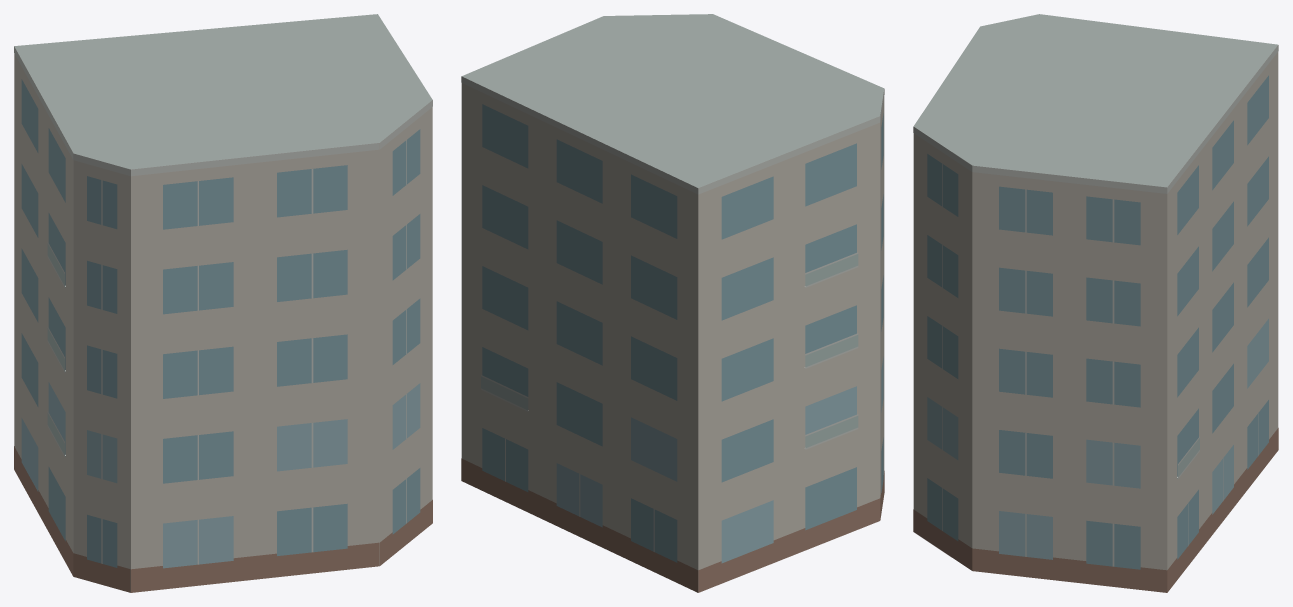
The model's file is survey-upis-33011142.glb.
3 views of the same model, side by side, from view 1: azimuth 30°, elevation 25°; view 2: azimuth 150°, elevation 25°; view 3: azimuth 270°, elevation 25° (orthographic). The views are drawn at different scales.
Parts seen in each view (by area): view 1: survey-upis-33011142.tmp; view 2: survey-upis-33011142.tmp; view 3: survey-upis-33011142.tmp.
Boxes of the visible parts, box(x1,y1,x2,y2) form: survey-upis-33011142.tmp: box(14, 14, 432, 592); survey-upis-33011142.tmp: box(461, 14, 884, 592); survey-upis-33011142.tmp: box(913, 14, 1278, 592).
Bounding box in the file's own units: 14.05 × 15.3 × 12.49.
